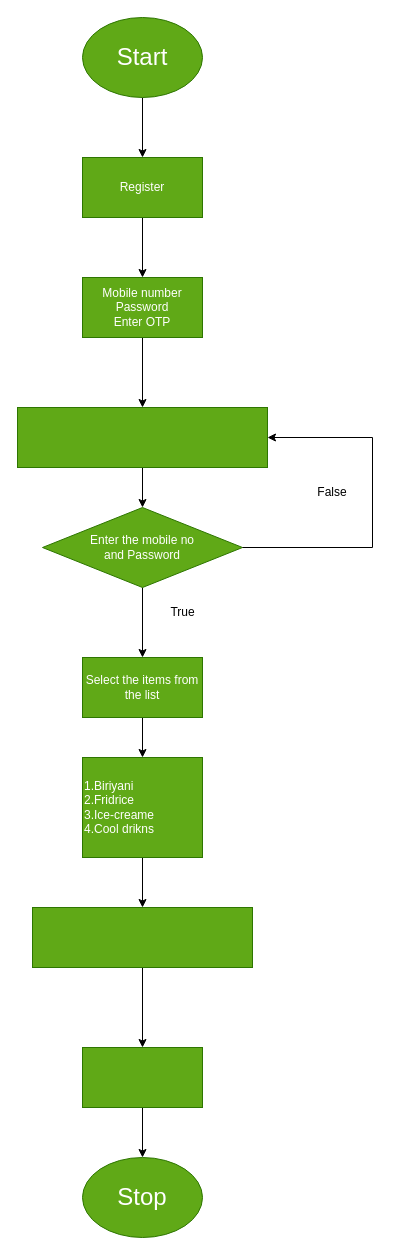
This 398x1255 diagram has some shape labels left out. The shapes that lost their labels are listed below. From the top down, each one's centre as x and y in pixels, then its label:
At point 142,437: "Login the app".
At point 142,937: "Order the food".
At point 142,1077: "Give the feedback about the app".
